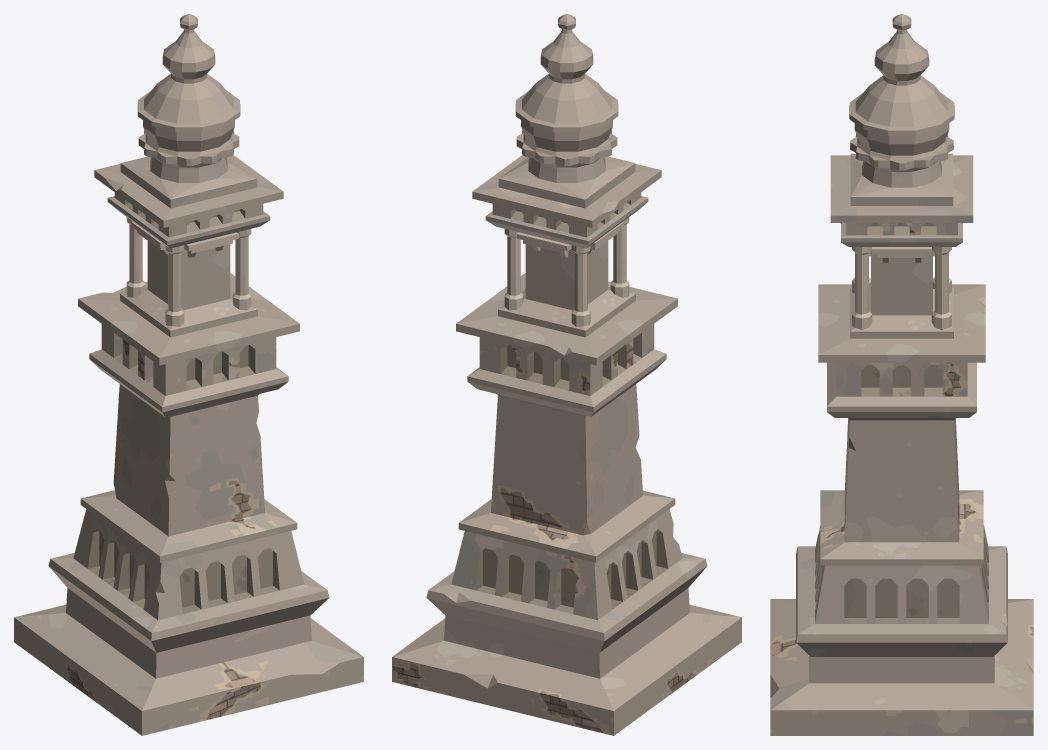
Rendered from SM_Bld_Clock_Tower_01.glb.
3 views of the same model, side by side, from view 1: azimuth 30°, elevation 25°; view 2: azimuth 150°, elevation 25°; view 3: azimuth 270°, elevation 25° (orthographic). The views are drawn at different scales.
Parts seen in each view (by area): view 1: SM_Bld_Clock_Tower_01; view 2: SM_Bld_Clock_Tower_01; view 3: SM_Bld_Clock_Tower_01.
Part boxes in pixels (x1=…): SM_Bld_Clock_Tower_01: x1=14, y1=14, x2=363, y2=735; SM_Bld_Clock_Tower_01: x1=392, y1=14, x2=741, y2=735; SM_Bld_Clock_Tower_01: x1=770, y1=14, x2=1033, y2=735.
Bounding box in the file's own units: 4.27 × 11.91 × 4.27.
1 material, 1 textured.
